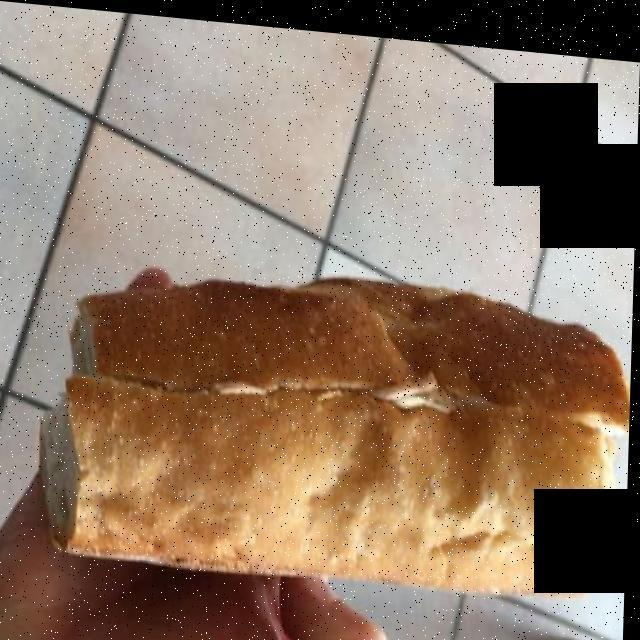bread: (32, 255, 613, 585)
